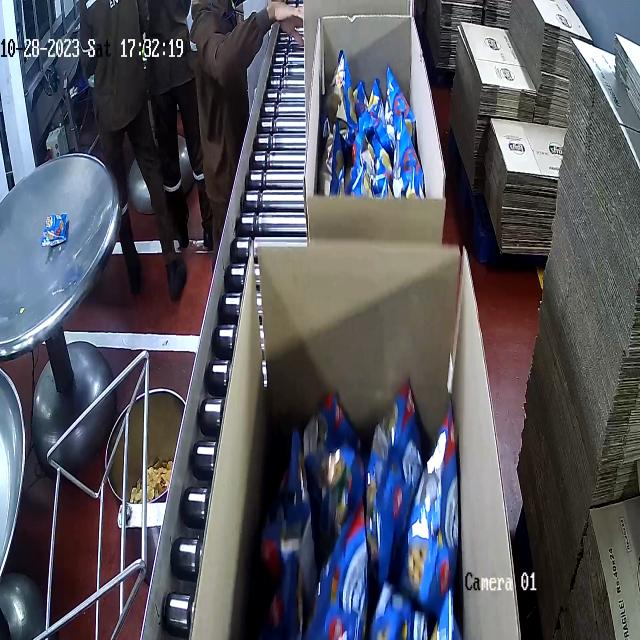PAPRIKA: (263, 391, 457, 640), (315, 48, 424, 194)
